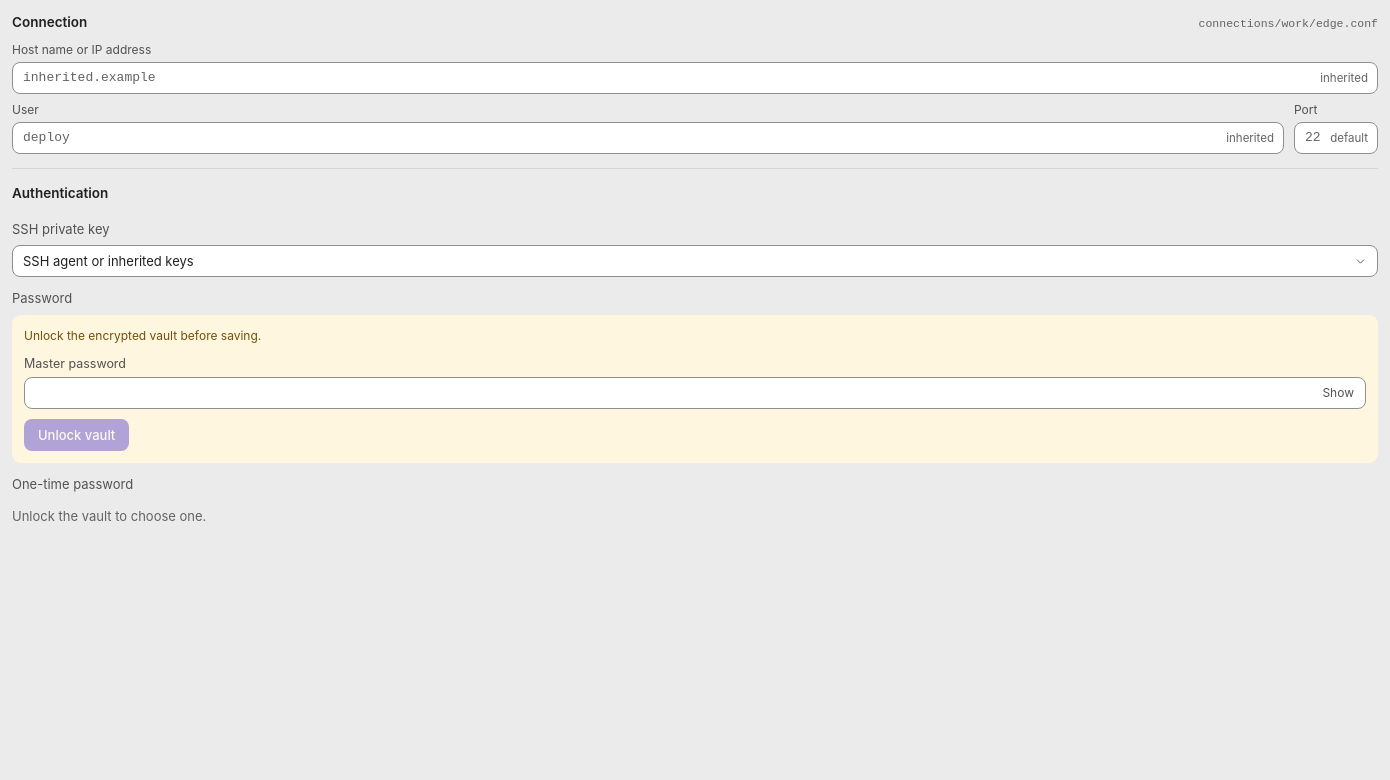
Test: ConnectionBasicForm › requires unlock before any save while preserving non-secret drafts
The image size is (1390, 780).
Type "draft.example" into the field labelled "Host name or IP address".
click(695, 78); type("draft.example")  # box [12,62,1378,94]
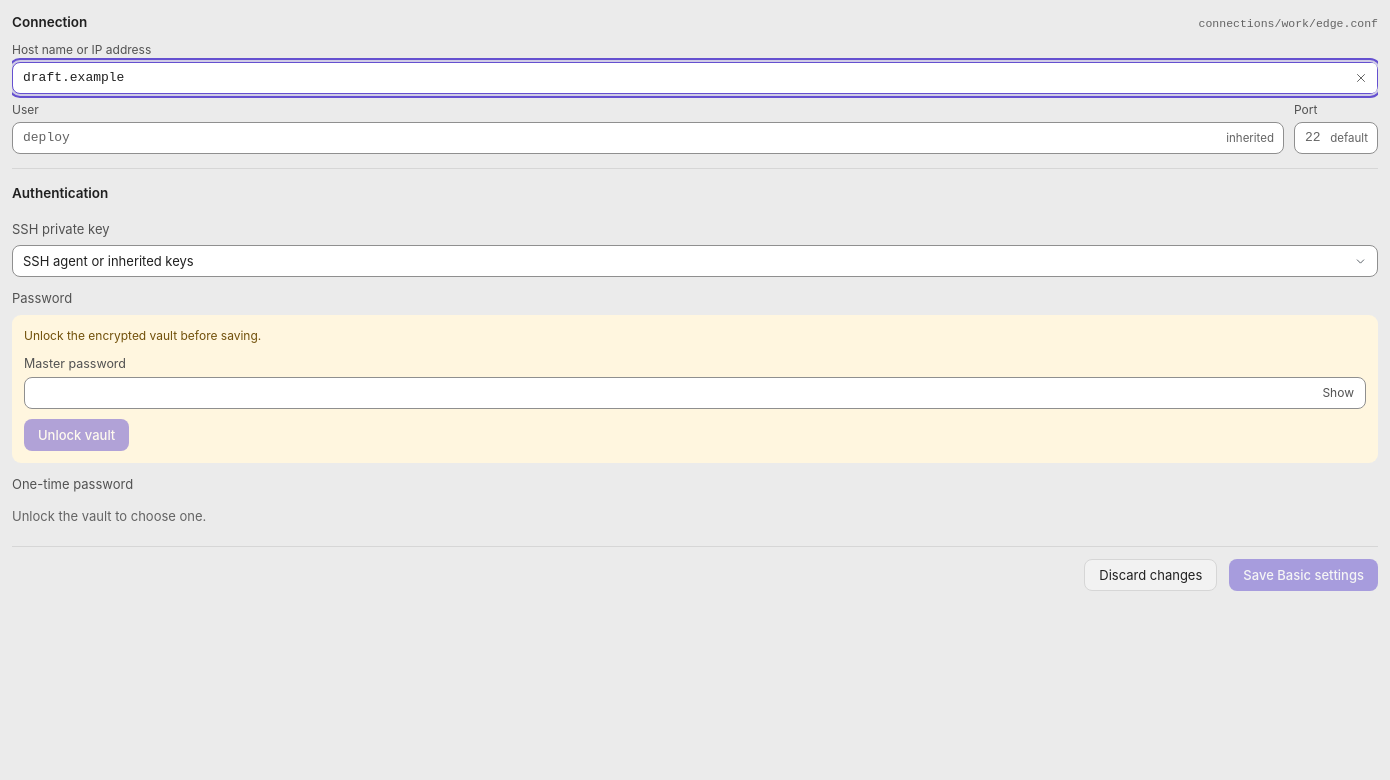
Check: the text "Unlock the encrypted vault before saving." is shown, box [24,328,261,342]
Check: the button "Save Basic settings" is disabled, box [1229,559,1378,591]
Type "the master password" into the password field named "Master password".
click(695, 393); type("the master password")  # box [24,377,1366,409]
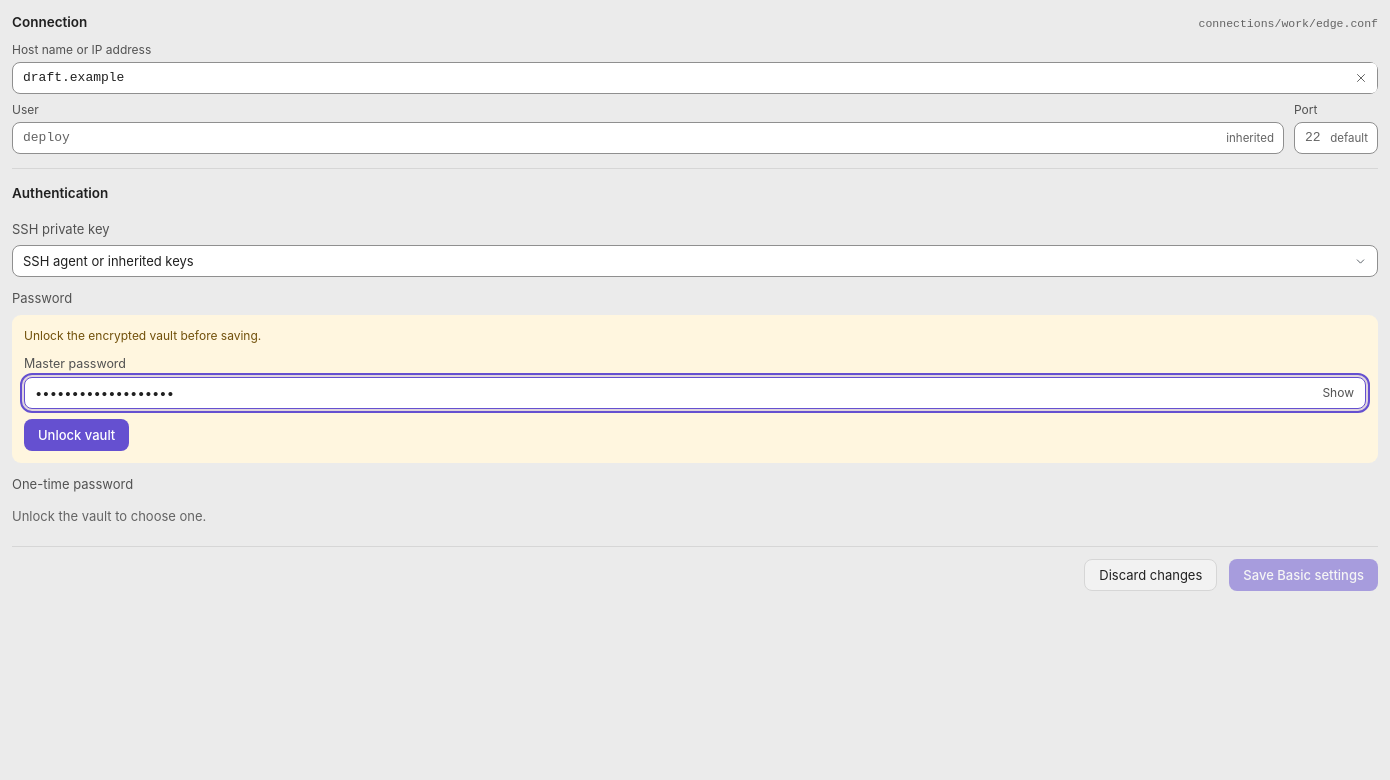
Click the button "Unlock vault".
click(77, 435)  # box [24,419,129,451]
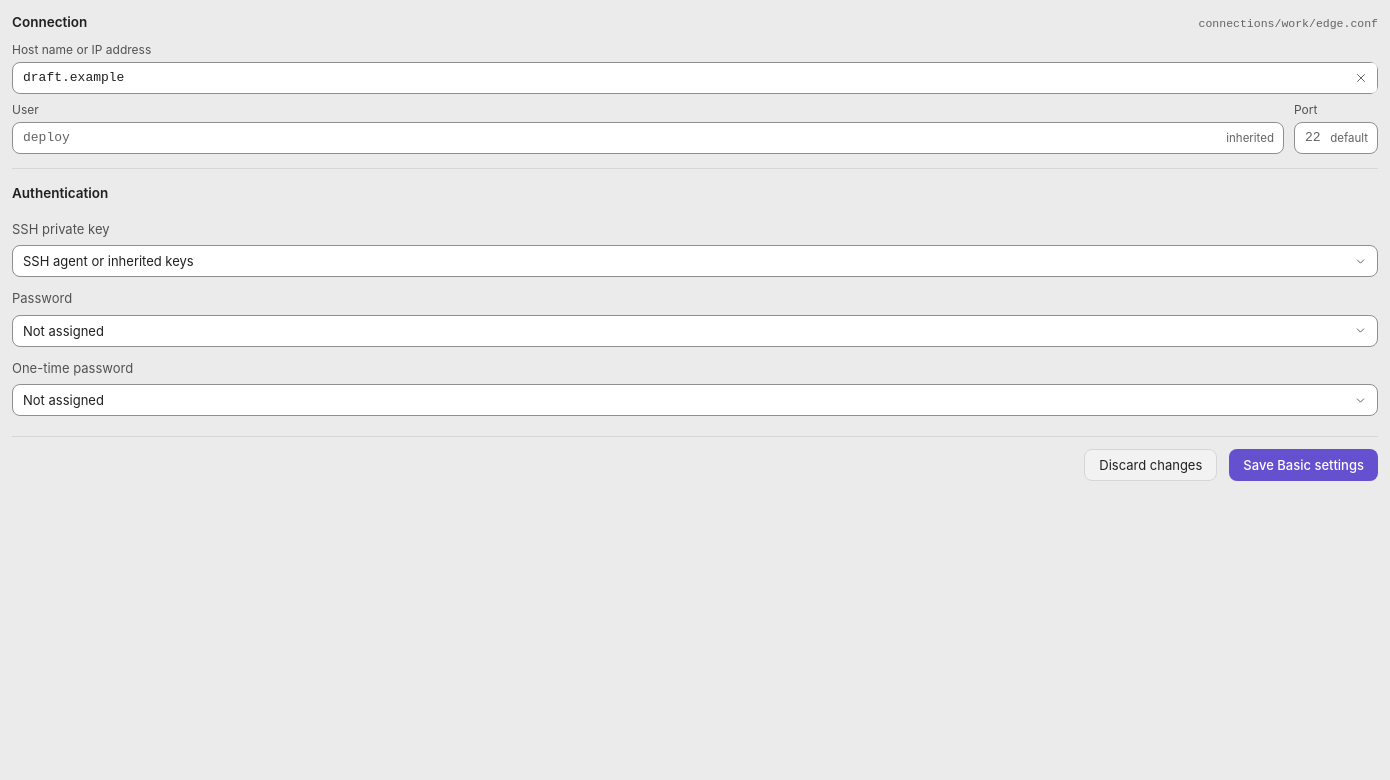
Check: the button "Save Basic settings" is enabled, box [1229,449,1378,481]
